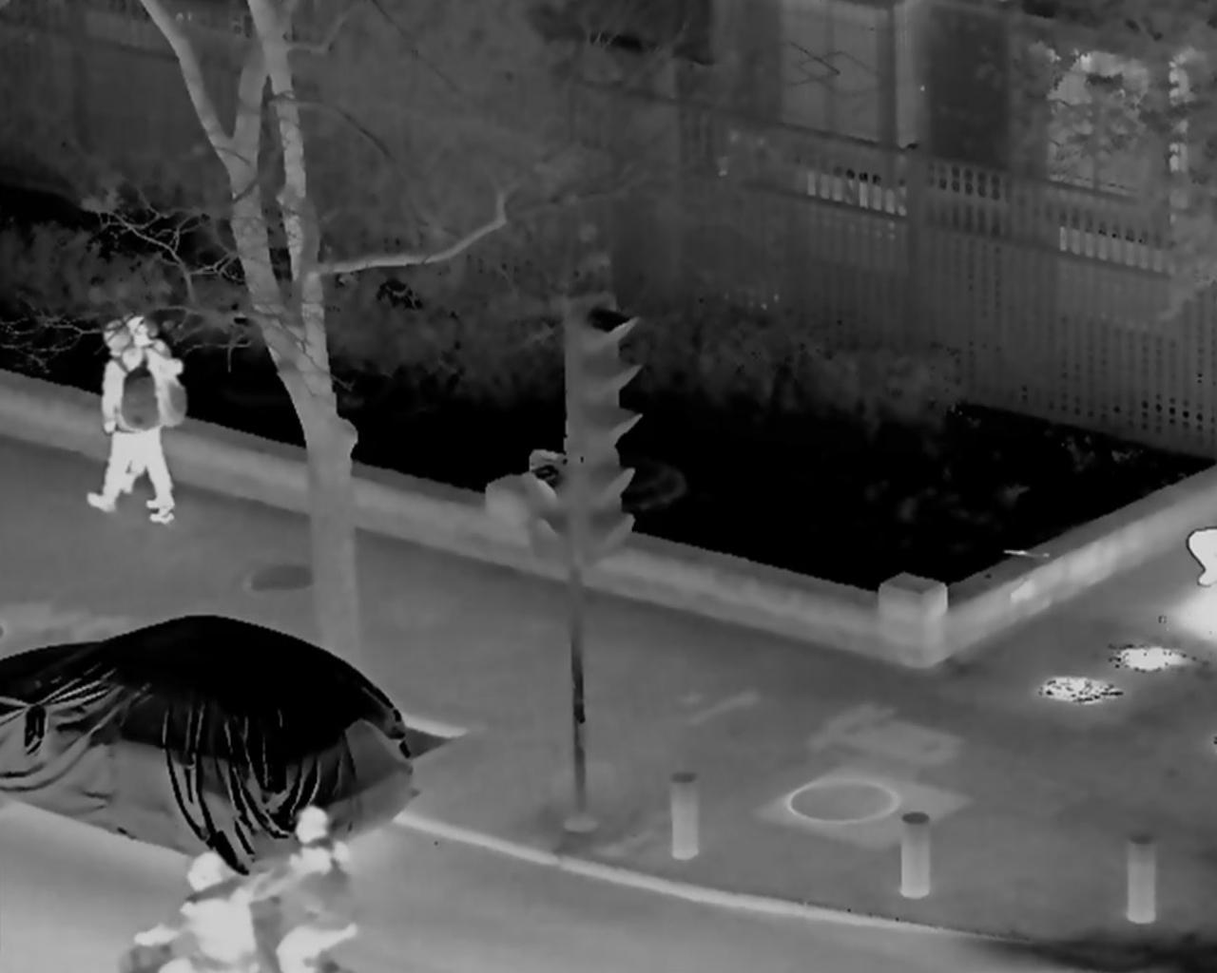person: (248, 805, 360, 973), (87, 323, 169, 521), (131, 847, 256, 973), (109, 317, 188, 511)
